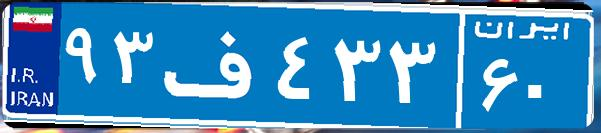0: (525, 38, 570, 115)
3: (385, 28, 445, 110), (330, 28, 385, 110), (110, 28, 158, 105)
4: (273, 28, 330, 110)
6: (475, 38, 525, 113)
9: (57, 26, 110, 107)
ف: (158, 15, 273, 115)
